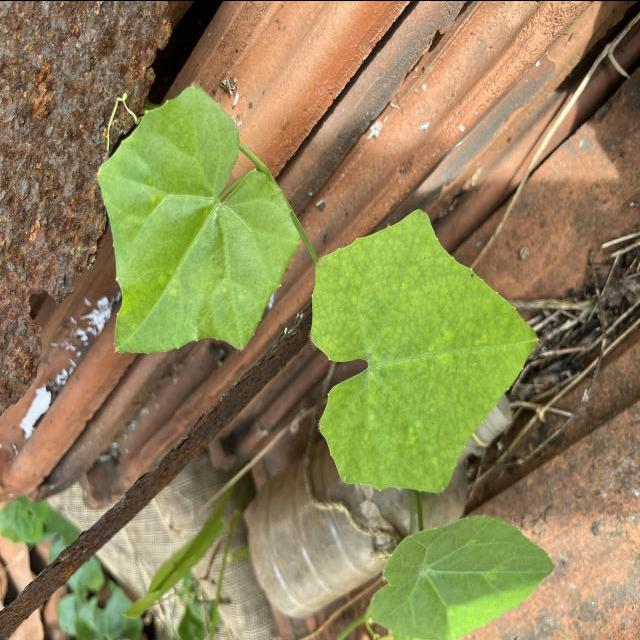Coccinia grandis: (309, 205, 541, 494), (96, 83, 302, 354)
